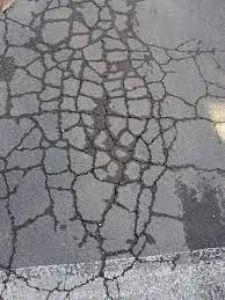alligator-crack: (0, 0, 222, 300)
